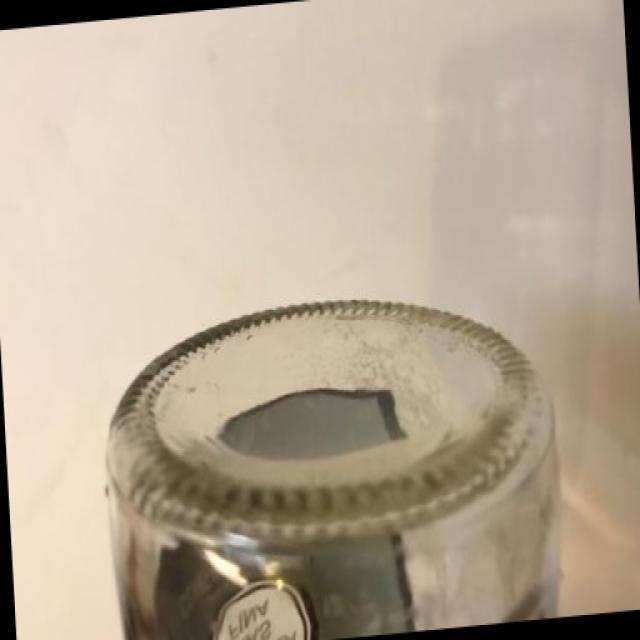vidrio: (76, 242, 602, 640)
